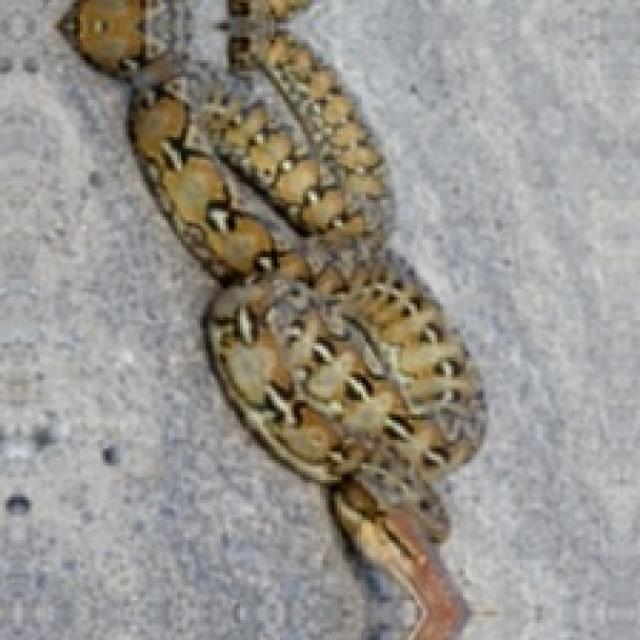reticulated python: (60, 0, 483, 637)
